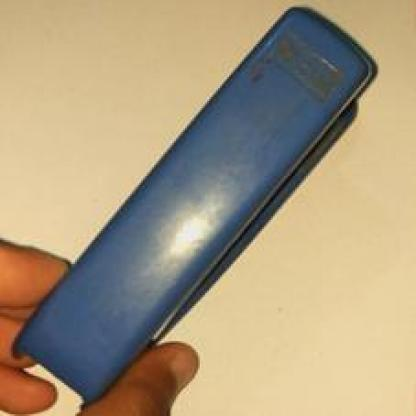stapler: (22, 0, 363, 414)
